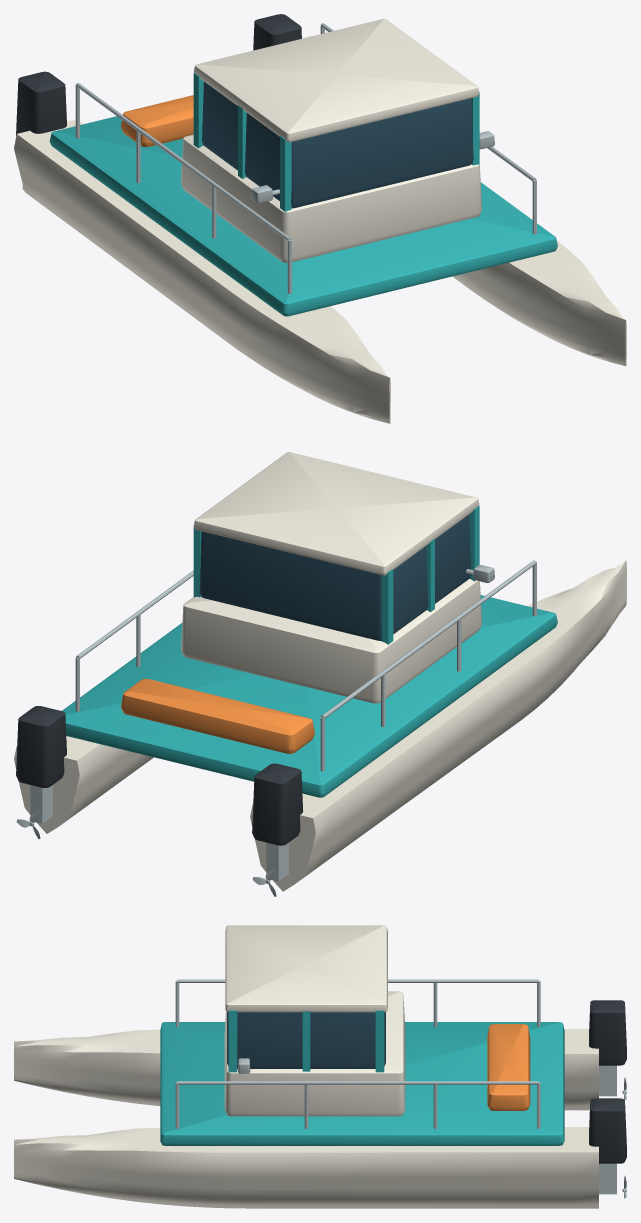
File: air-land-sea-vehicles-power-catamaran-9066892c__20034.glb
3 views of the same model, one above another, from view 1: azimuth 30°, elevation 25°; view 2: azimuth 150°, elevation 25°; view 3: azimuth 270°, elevation 25° (orthographic). The views are drawn at different scales.
Visible parts, largest first — view 1: power-catamaran; view 2: power-catamaran; view 3: power-catamaran.
Part boxes in pixels (x1,y1,x2,y2): power-catamaran: (14,14,626,423); power-catamaran: (14,452,626,891); power-catamaran: (14,925,626,1208).
Size of the model in its own units: 3.52 by 2.5 by 7.12.
